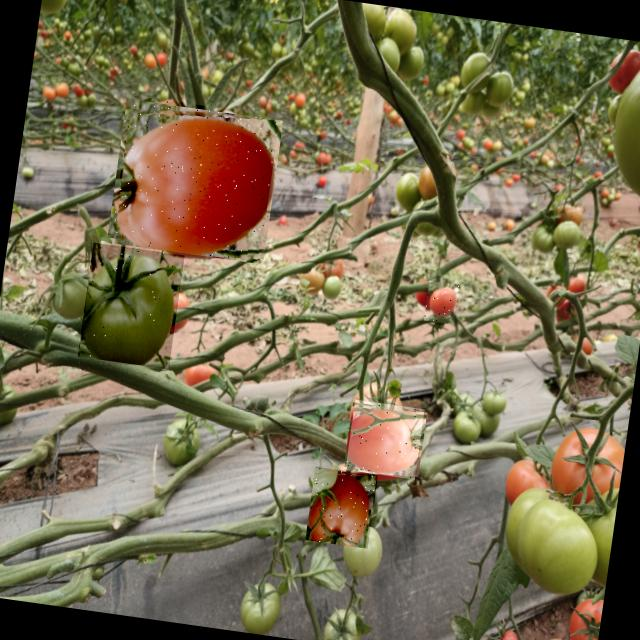Ripe Tomato: (111, 96, 280, 264), (346, 400, 424, 480), (305, 467, 378, 549), (424, 281, 459, 325)
Unripe Tomato: (78, 242, 184, 370)
